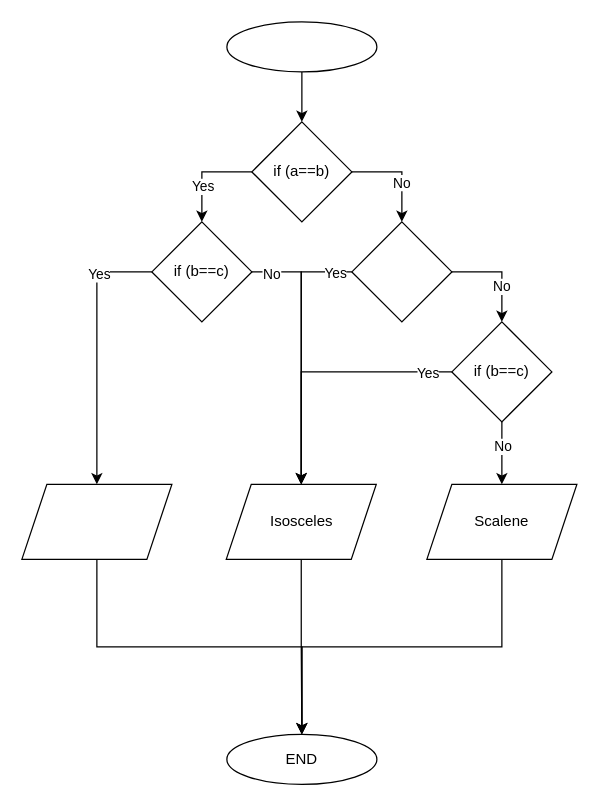
This 599x806 diagram has some shape labels left out. Here are the shapes that lost their labels. From the top down, the box of each, then its label:
(226, 21, 377, 72): START
(351, 221, 452, 322): if (a==c)
(21, 483, 172, 559): Equilatral
